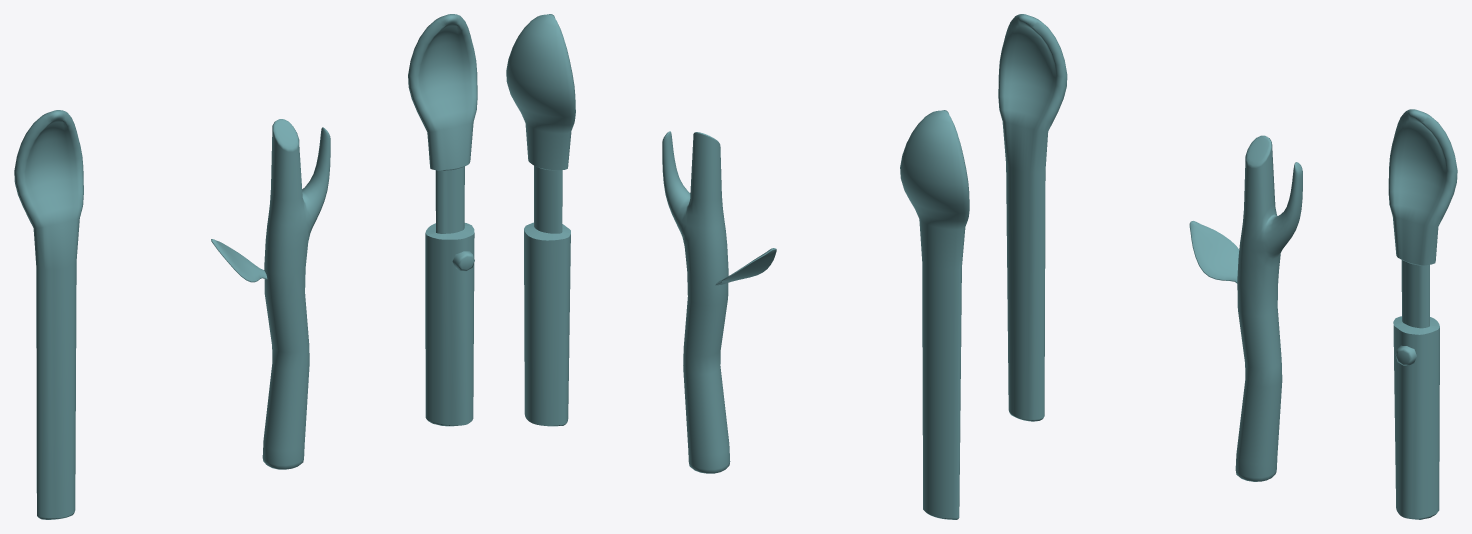
The model's file is sm_spoons.fbx.
3 renders of one model, left to right at view 1: azimuth 30°, elevation 25°; view 2: azimuth 150°, elevation 25°; view 3: azimuth 330°, elevation 25°, orthographic.
Parts seen in each view (by area): view 1: SM_SPOON_IA, SM_SPOON_H, SM_SPOON_ROCK; view 2: SM_SPOON_IA, SM_SPOON_H, SM_SPOON_ROCK; view 3: SM_SPOON_IA, SM_SPOON_H, SM_SPOON_ROCK.
Part boxes in pixels (bbox=[...]): SM_SPOON_IA: bbox=[408, 14, 477, 426]; SM_SPOON_H: bbox=[14, 110, 83, 519]; SM_SPOON_ROCK: bbox=[211, 119, 330, 469]; SM_SPOON_IA: bbox=[506, 14, 575, 426]; SM_SPOON_H: bbox=[900, 110, 969, 519]; SM_SPOON_ROCK: bbox=[662, 131, 776, 473]; SM_SPOON_IA: bbox=[1388, 109, 1457, 519]; SM_SPOON_H: bbox=[998, 14, 1067, 421]; SM_SPOON_ROCK: bbox=[1189, 135, 1302, 481].
Size of the model in its own units: 59.05 by 50.32 by 7.56.
